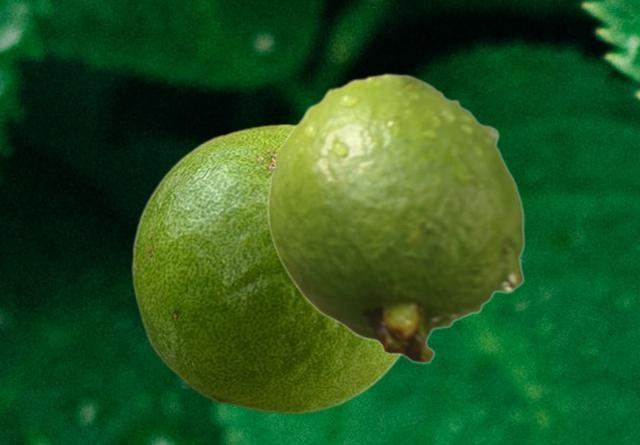guava: (131, 123, 402, 414), (266, 72, 524, 363)
